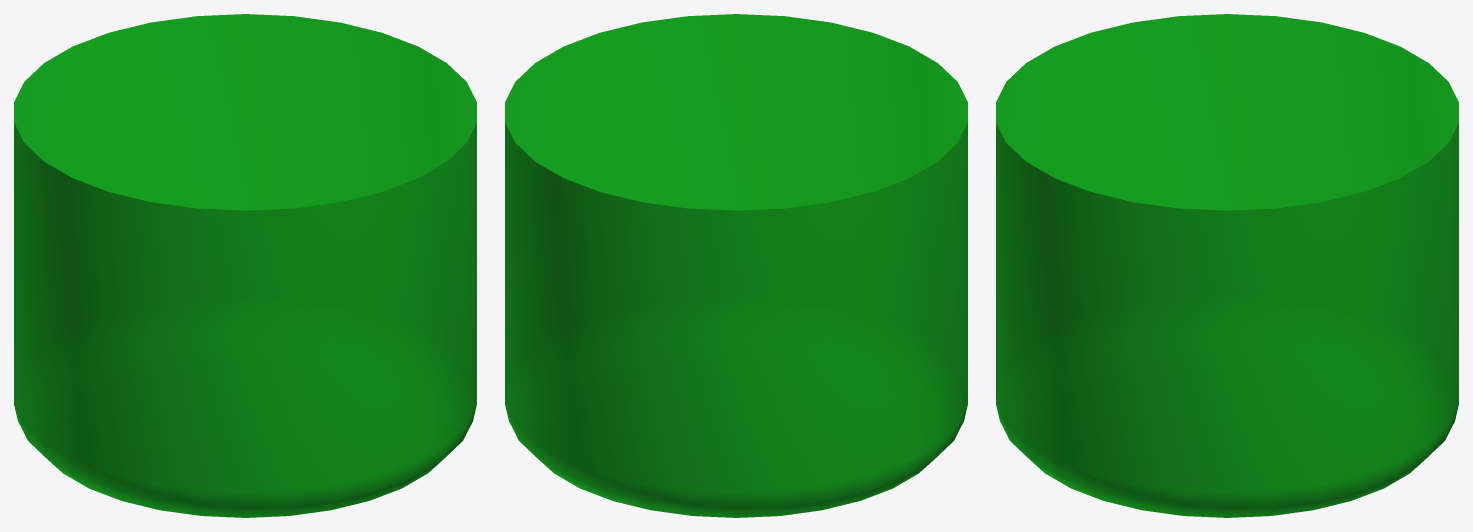
The model's file is SM_10mL待净化液体.fbx.
The picture shows the model from 3 angles, left to right: view 1: azimuth 30°, elevation 25°; view 2: azimuth 150°, elevation 25°; view 3: azimuth 270°, elevation 25°; orthographic projection.
Parts seen in each view (by area): view 1: SM_10mL待净化液体; view 2: SM_10mL待净化液体; view 3: SM_10mL待净化液体.
Boxes of the visible parts, left/top/right/bottom form: SM_10mL待净化液体: left=14, top=14, right=476, bottom=517; SM_10mL待净化液体: left=505, top=14, right=967, bottom=517; SM_10mL待净化液体: left=996, top=14, right=1458, bottom=517.
Bounding box in the file's own units: 0.0301 × 0.0232 × 0.0299.
